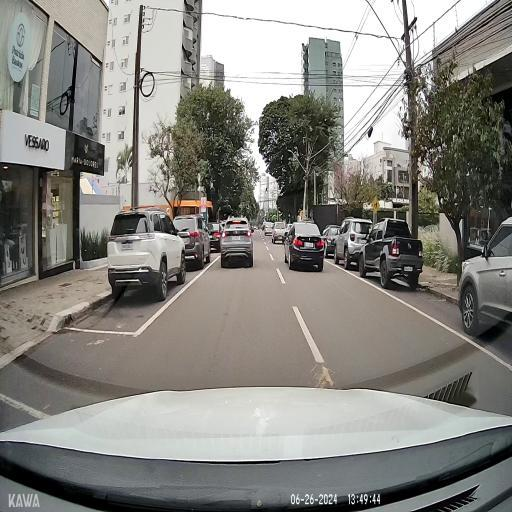R-6b: (201, 198, 206, 204)
